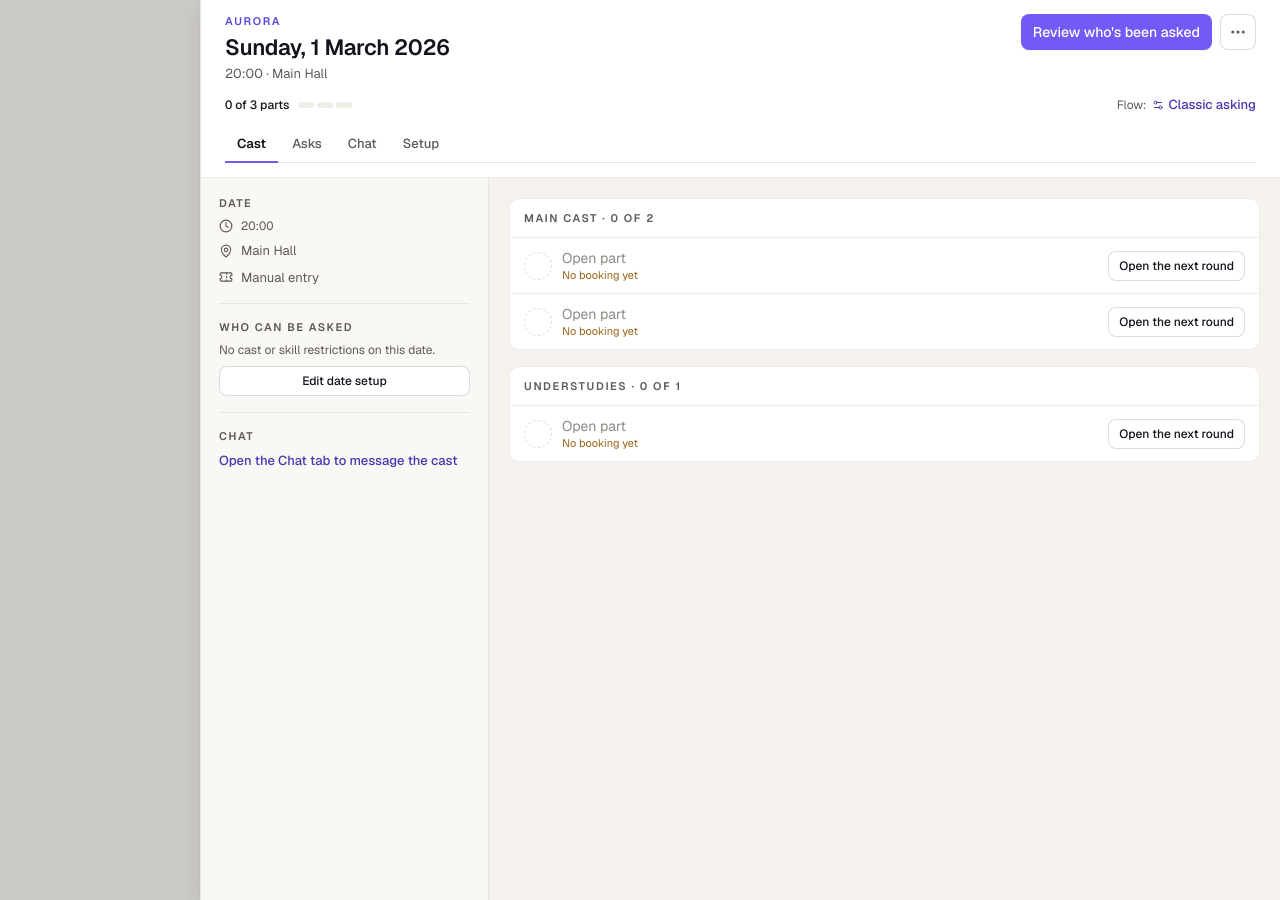
Scenario: ShowDateDetailSheet capability gates › manage_show_dates on: Edit schedule is enabled
What coordinates should you click on to do the following:
click the button "Setup"
I would click on:
 (421, 145)
Its box is 391,127 -> 451,163.
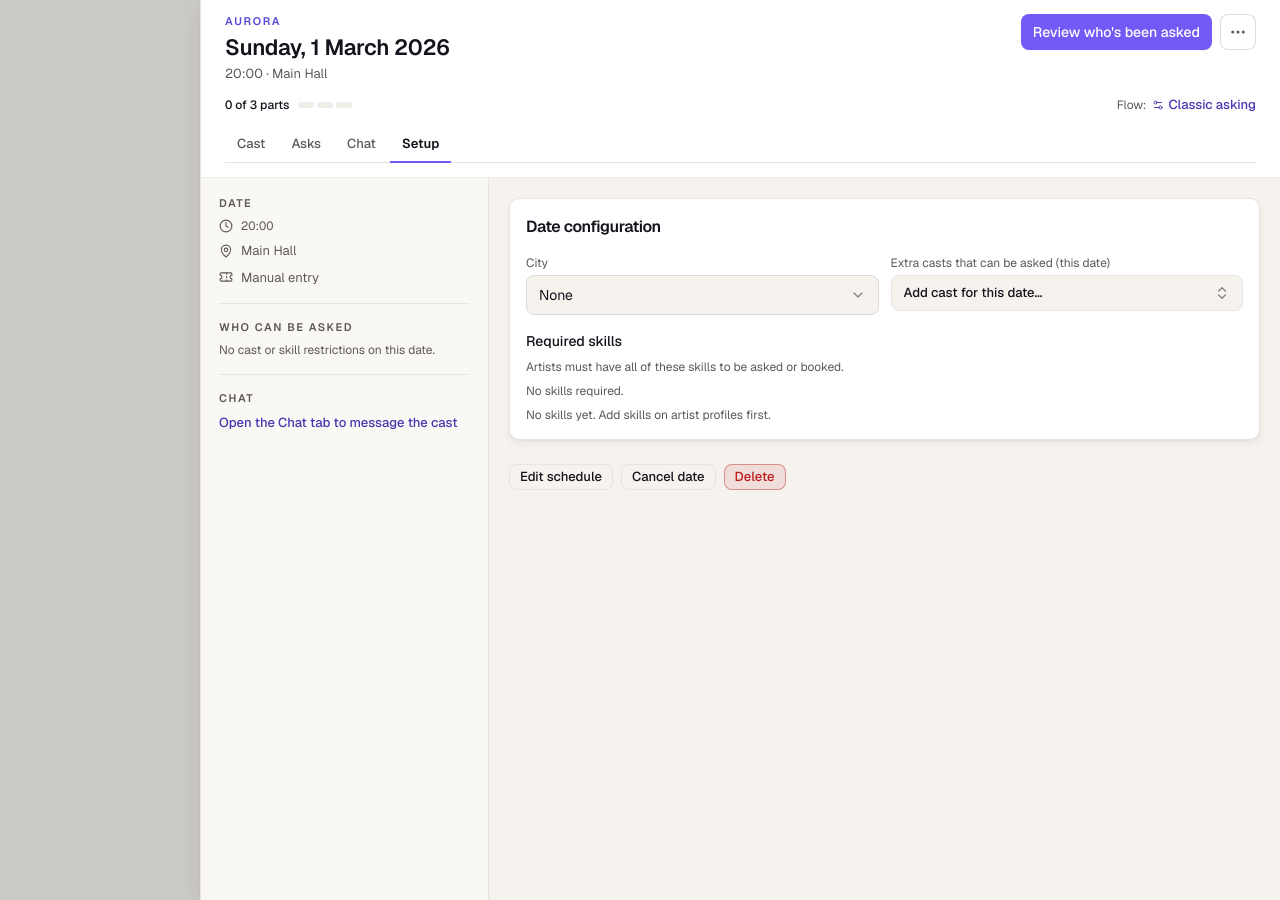
Now the button "Edit schedule" is enabled, box 509,464 -> 613,490
